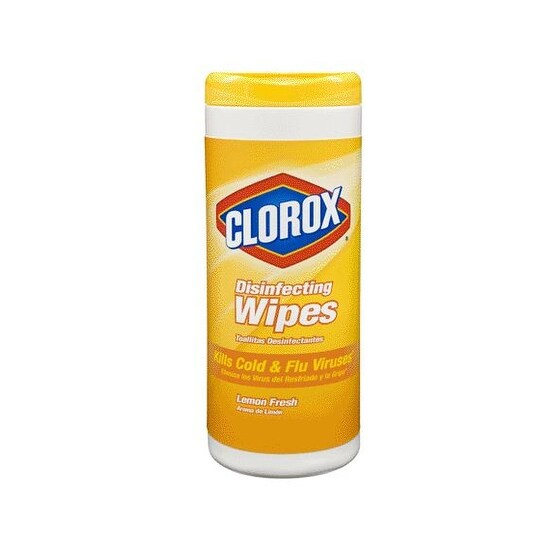Wipes: (200, 69, 367, 482)
